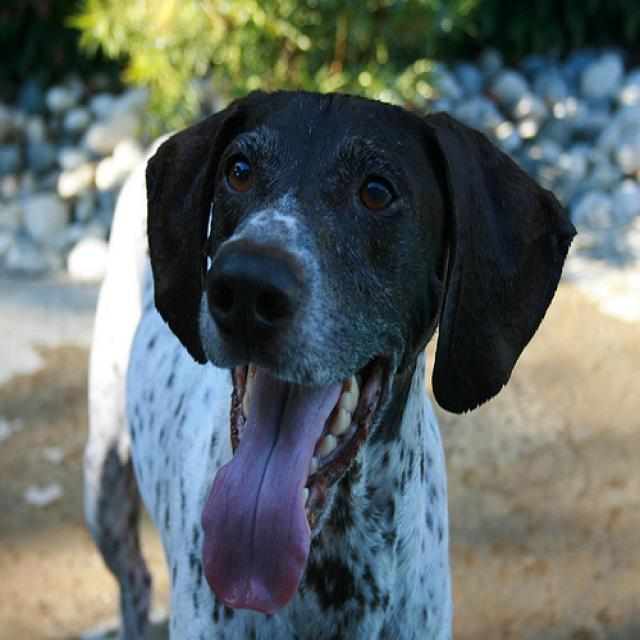dog-german_shorthaired: (79, 77, 579, 637)
